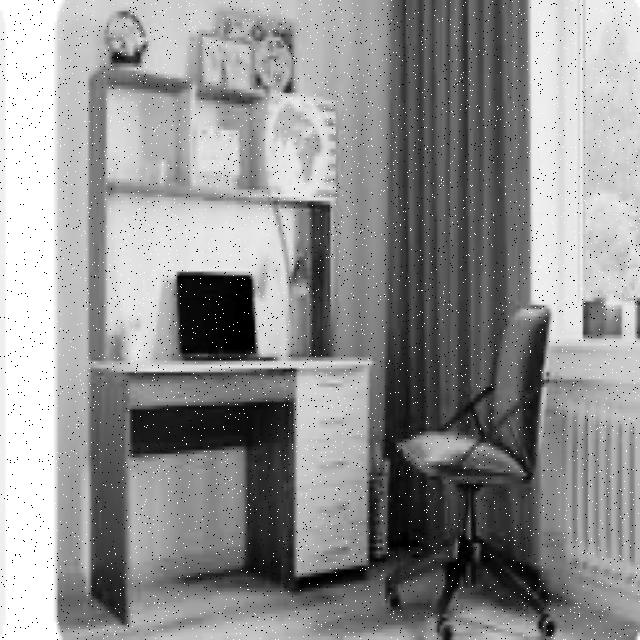book: (386, 297, 557, 640)
table: (88, 354, 374, 622)
